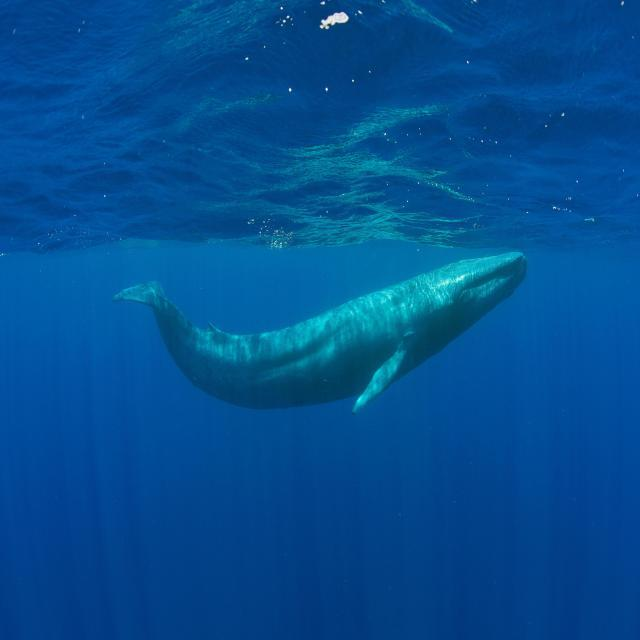blue_whale: (127, 223, 568, 476)
